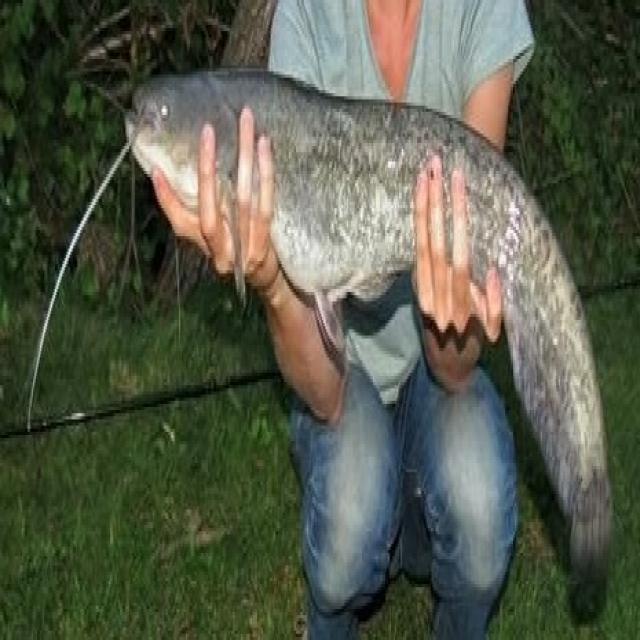Catfish: (109, 53, 626, 607)
